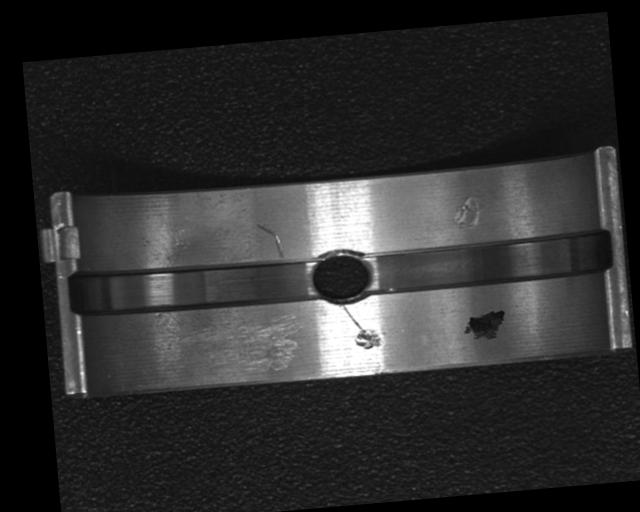blot: (461, 308, 508, 340)
bruise: (449, 191, 484, 231), (351, 326, 383, 350)
gap: (69, 250, 315, 322), (366, 226, 612, 297)
hole: (307, 244, 375, 310)
nick: (255, 222, 285, 260), (339, 301, 367, 335)
scratch: (176, 310, 300, 378)
